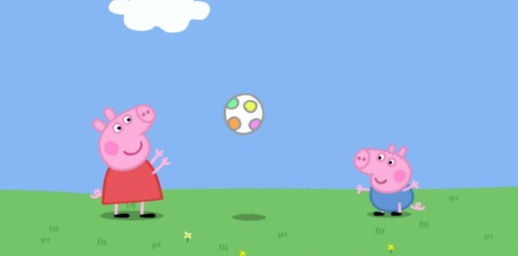Peppa: (90, 105, 169, 222)
